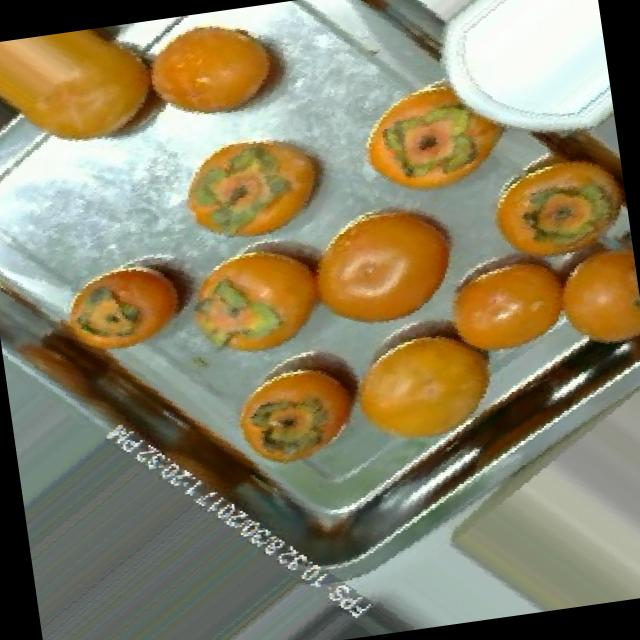Fruit: (284, 178, 484, 354), (162, 217, 370, 386), (324, 307, 528, 468), (339, 58, 531, 220), (154, 110, 354, 260), (208, 333, 390, 494), (122, 1, 312, 148), (422, 233, 594, 389), (39, 240, 222, 378)
